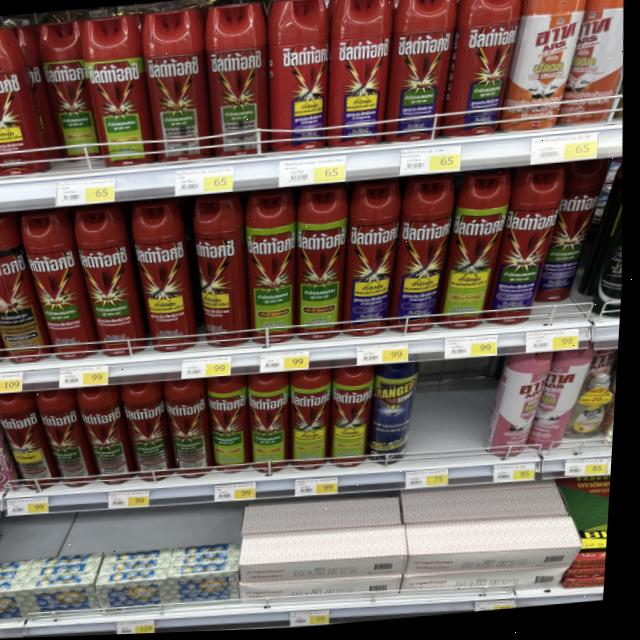empty_shelf: (406, 361, 505, 462)
